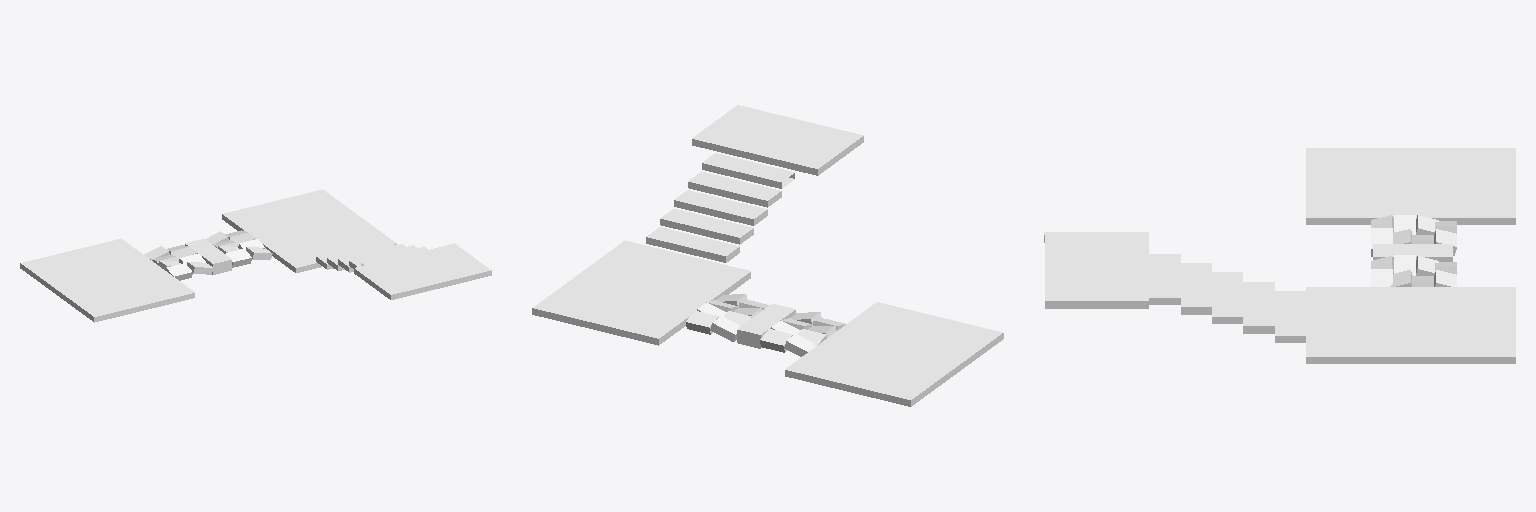
The robot description file, URDF, robot "ramp_stairs2":
<robot name="ramp_stairs2">
  <link name="base_link">
    <visual>
      <origin xyz="0 0 0" rpy="0 0 0" />
      <geometry>
        <mesh filename="package://hpp_environments/meshes/multicontact/daeun/ramp_stairs2.stl"/>
      </geometry>
      <material name="white">
        <color rgba="1 1 1 1"/>
      </material>
    </visual>
    <collision>
      <origin xyz="0 0 0" rpy="0 0 0" />
      <geometry>
        <mesh filename="package://hpp_environments/meshes/multicontact/daeun/ramp_stairs2.stl"/>
      </geometry>
    </collision>
  </link>
</robot>

--- Render facts (derived) ---
3 views of the same robot in one strip: view 1: azimuth 30°, elevation 25°; view 2: azimuth 150°, elevation 25°; view 3: azimuth 270°, elevation 25° (orthographic).
Robot: ramp_stairs2 — 1 links, 0 joints (none); root link base_link; default pose: every joint at zero.
Links seen in each view (by area): view 1: base_link; view 2: base_link; view 3: base_link.
Link boxes in pixels (<box>): base_link: <box>20,189,491,322</box>; base_link: <box>532,105,1003,406</box>; base_link: <box>1044,148,1515,363</box>.
Bounding box of the posed robot: 4.77 × 4.51 × 0.7471 m (x, y, z).
1 mesh visuals loaded from 1 distinct referenced files (1 binary STL).
